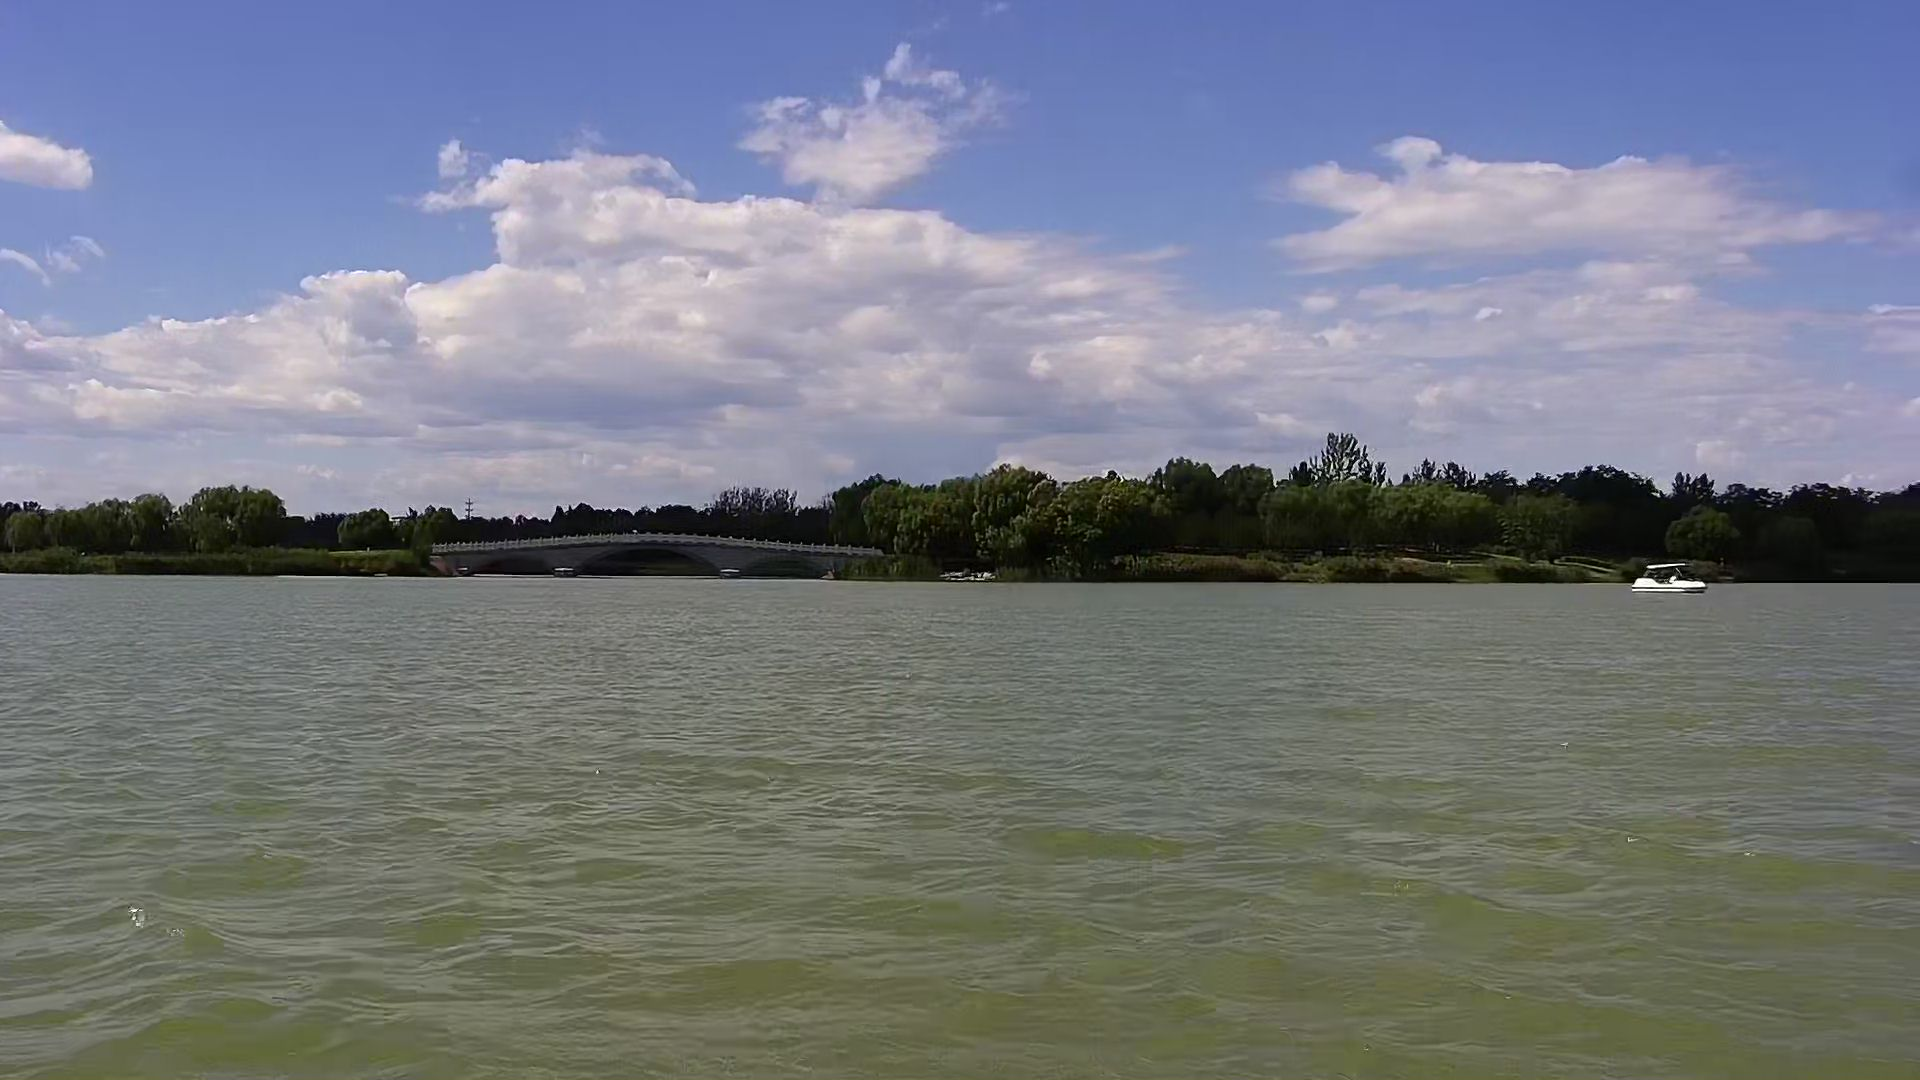boat: (1629, 558, 1706, 595)
bridge: (433, 527, 878, 584)
